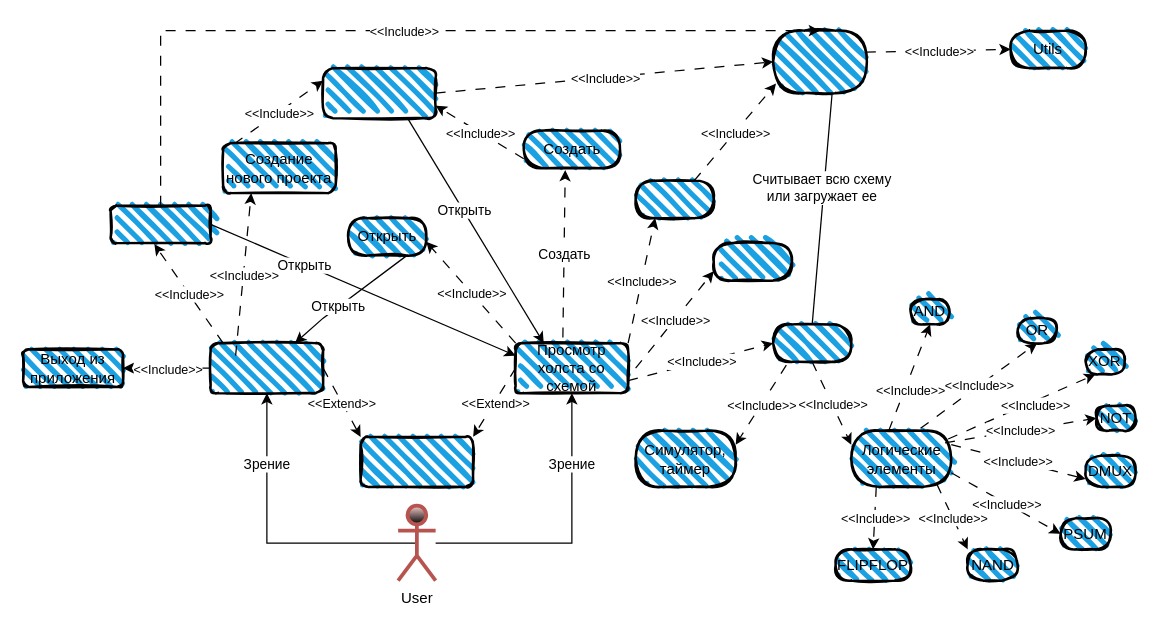
This 1158x629 diagram has some shape labels left out. Each missing label, with the box of its shape:
Mapper: (771, 322, 852, 362)
Ввод имени нового проекта: (321, 66, 436, 119)
Выйти: (712, 241, 792, 281)
Главный обработчик файлов: (771, 29, 868, 94)
Открытие проекта: (109, 204, 211, 244)
Просмотр Стартового меню: (209, 341, 324, 394)
Сохранить: (634, 179, 714, 219)
Стандартное окно Avalonia: (359, 435, 474, 488)
